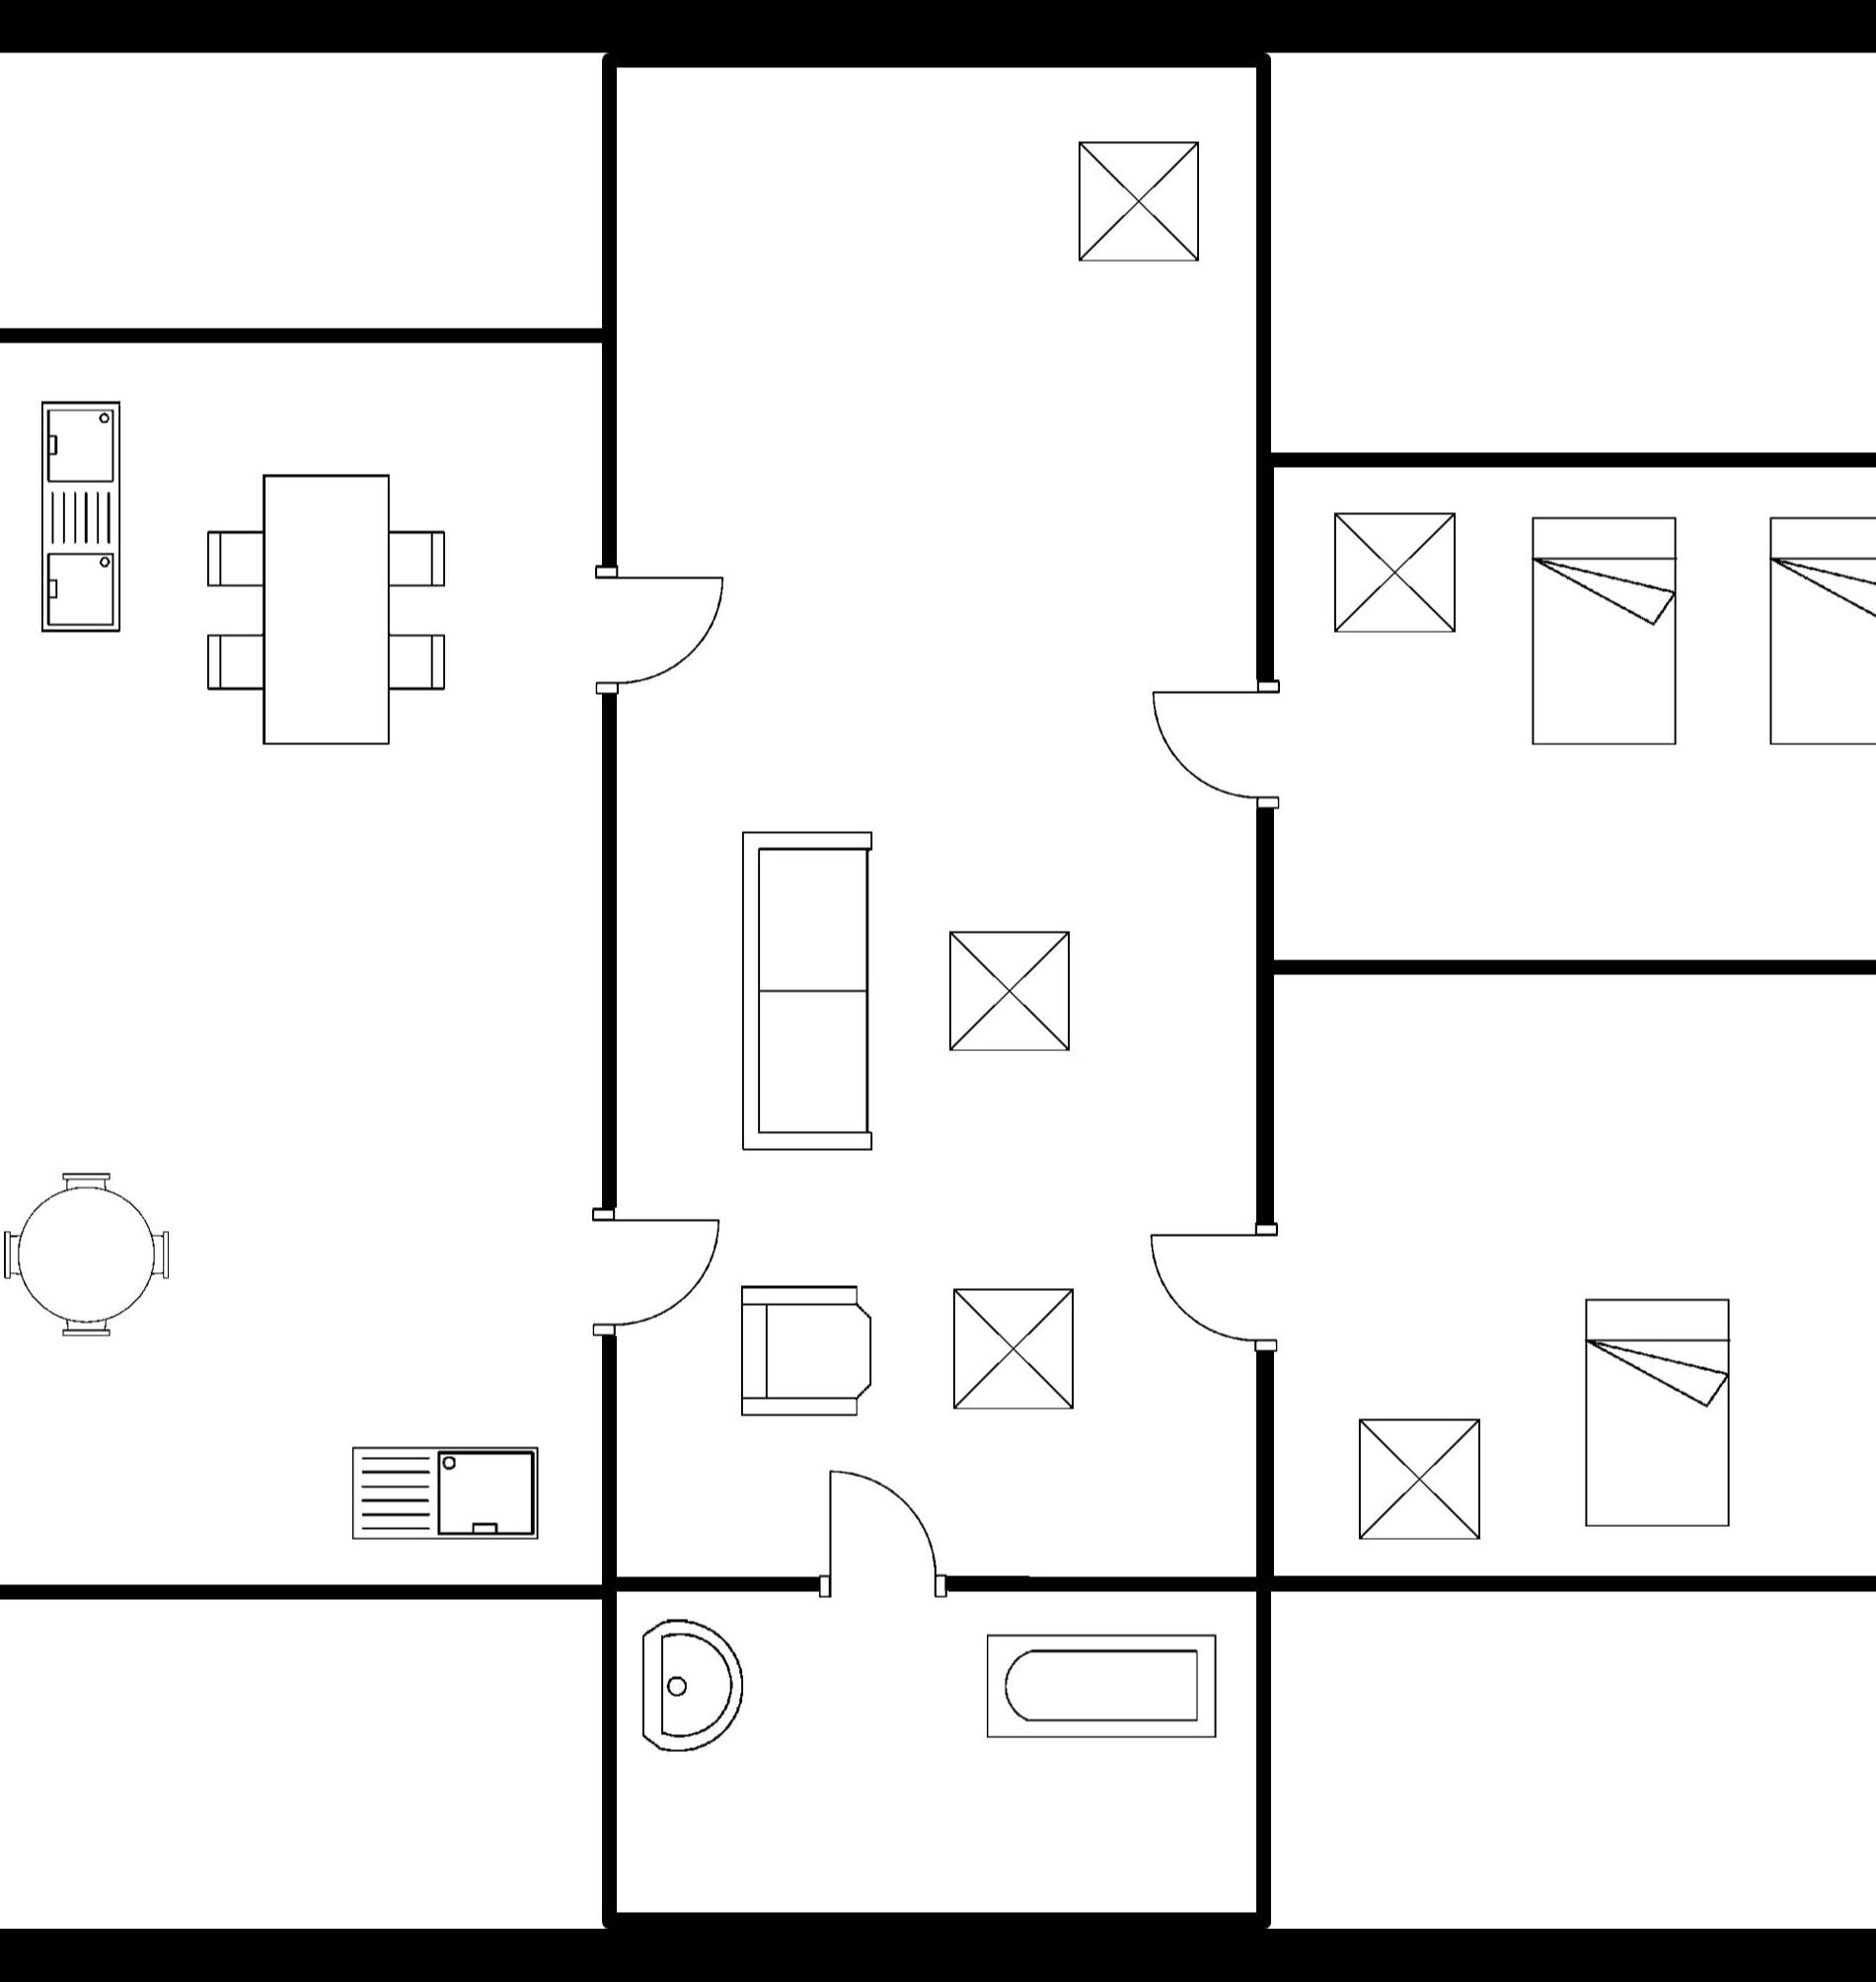sink: (25, 388, 132, 644)
